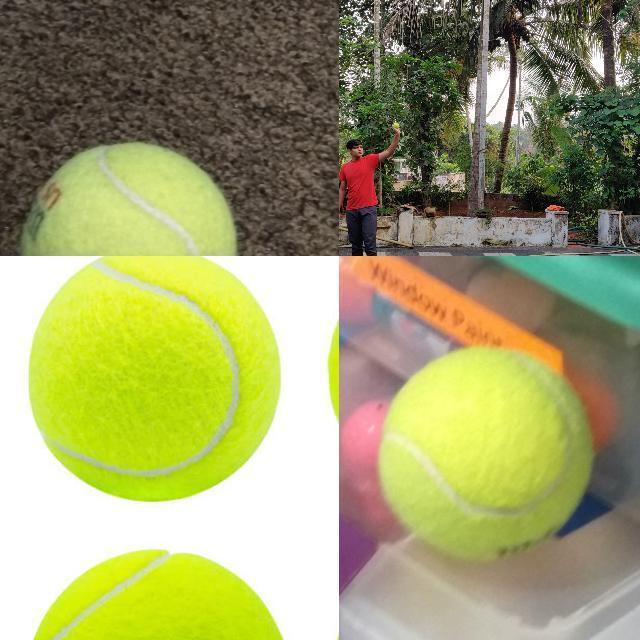tennis-ball: (26, 256, 282, 502), (377, 346, 596, 562), (18, 141, 239, 255), (24, 548, 292, 639), (393, 122, 399, 128)
